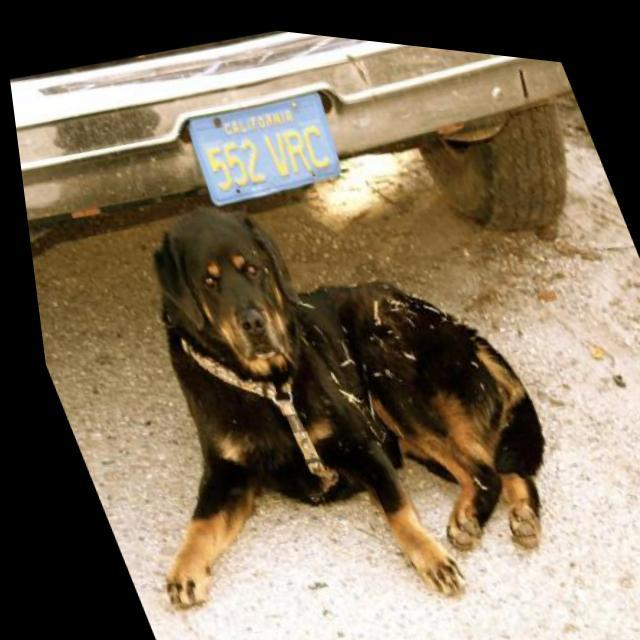license_plate: (170, 73, 357, 216)
